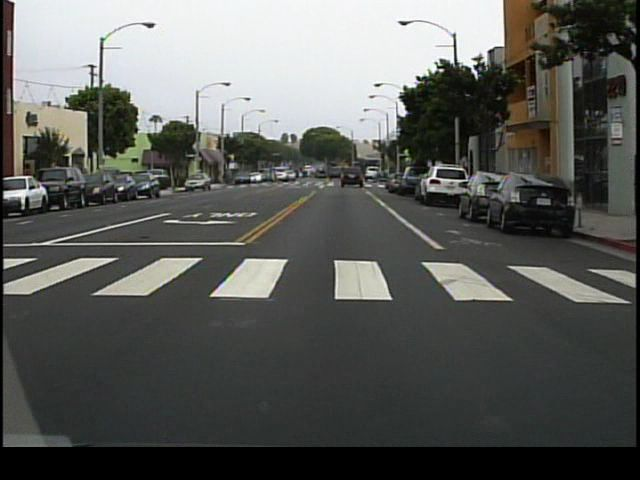car: (492, 169, 575, 239), (40, 165, 85, 208), (1, 174, 45, 217), (459, 168, 493, 221), (421, 165, 466, 202), (85, 169, 116, 204), (184, 170, 212, 192), (398, 166, 419, 194), (341, 164, 363, 189), (116, 172, 135, 200), (139, 171, 157, 196)
striscie pedonali: (3, 254, 639, 308)
